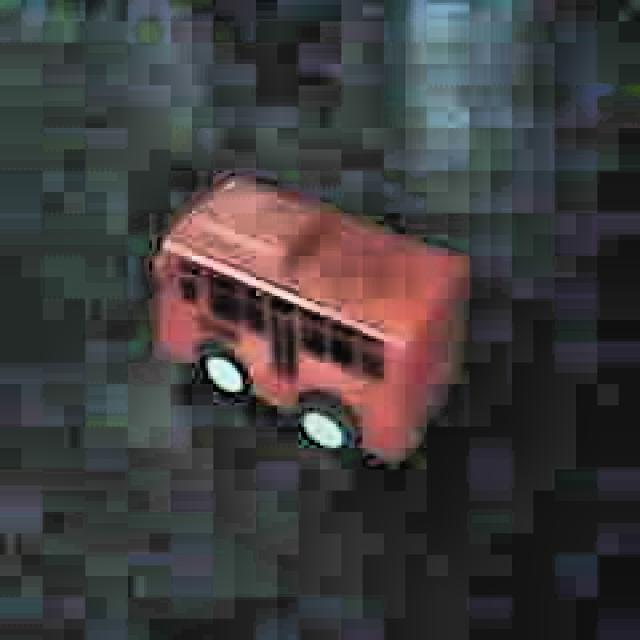bus: (143, 167, 465, 477)
